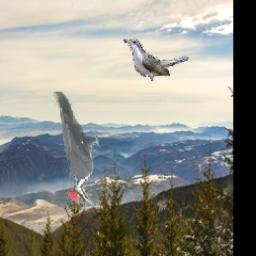Cuckoo: (125, 38, 191, 83)
Woodpecker: (53, 92, 99, 209)
